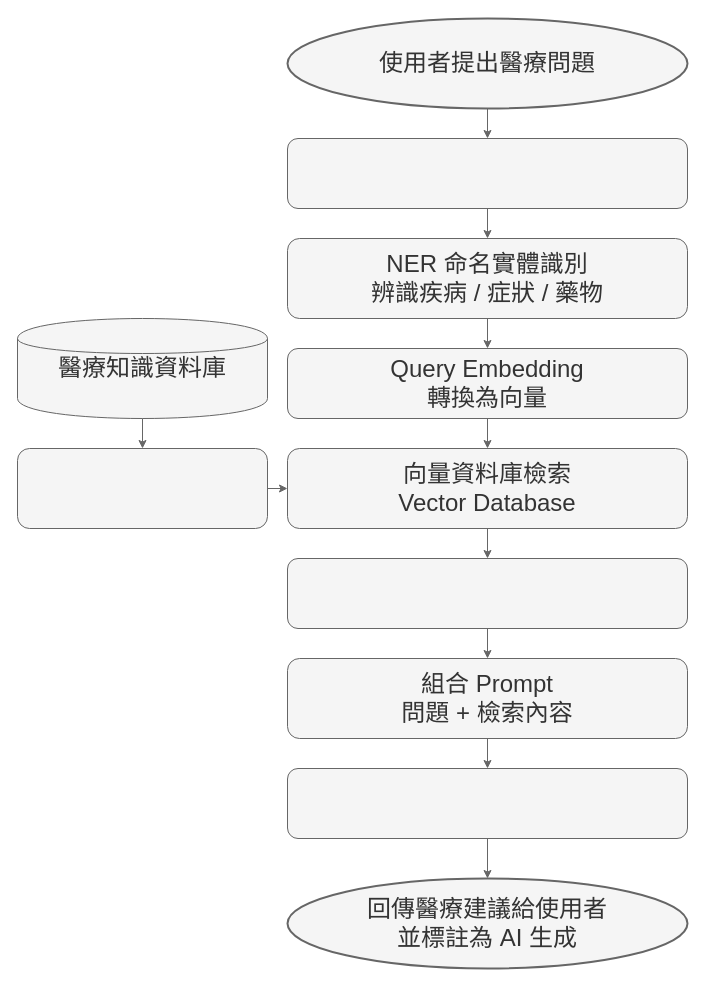
The diagram is 706 pixels wide and 986 high, and some of its shapes have lost their labels. Each missing label, with the box of its shape:
LLM 生成回答: (286, 768, 688, 838)
取得相關醫療文件: (286, 558, 688, 628)
文件向量化與索引建立: (16, 448, 268, 528)
文字前處理: (286, 138, 688, 208)
